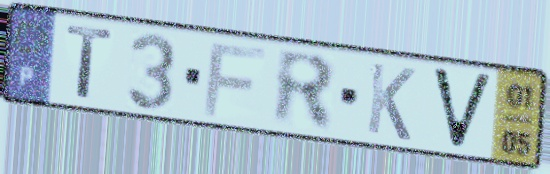3: (124, 29, 179, 113)
F: (200, 41, 270, 120)
K: (363, 59, 419, 144)
R: (271, 46, 338, 135)
T: (63, 22, 115, 103)
V: (427, 64, 497, 154)
